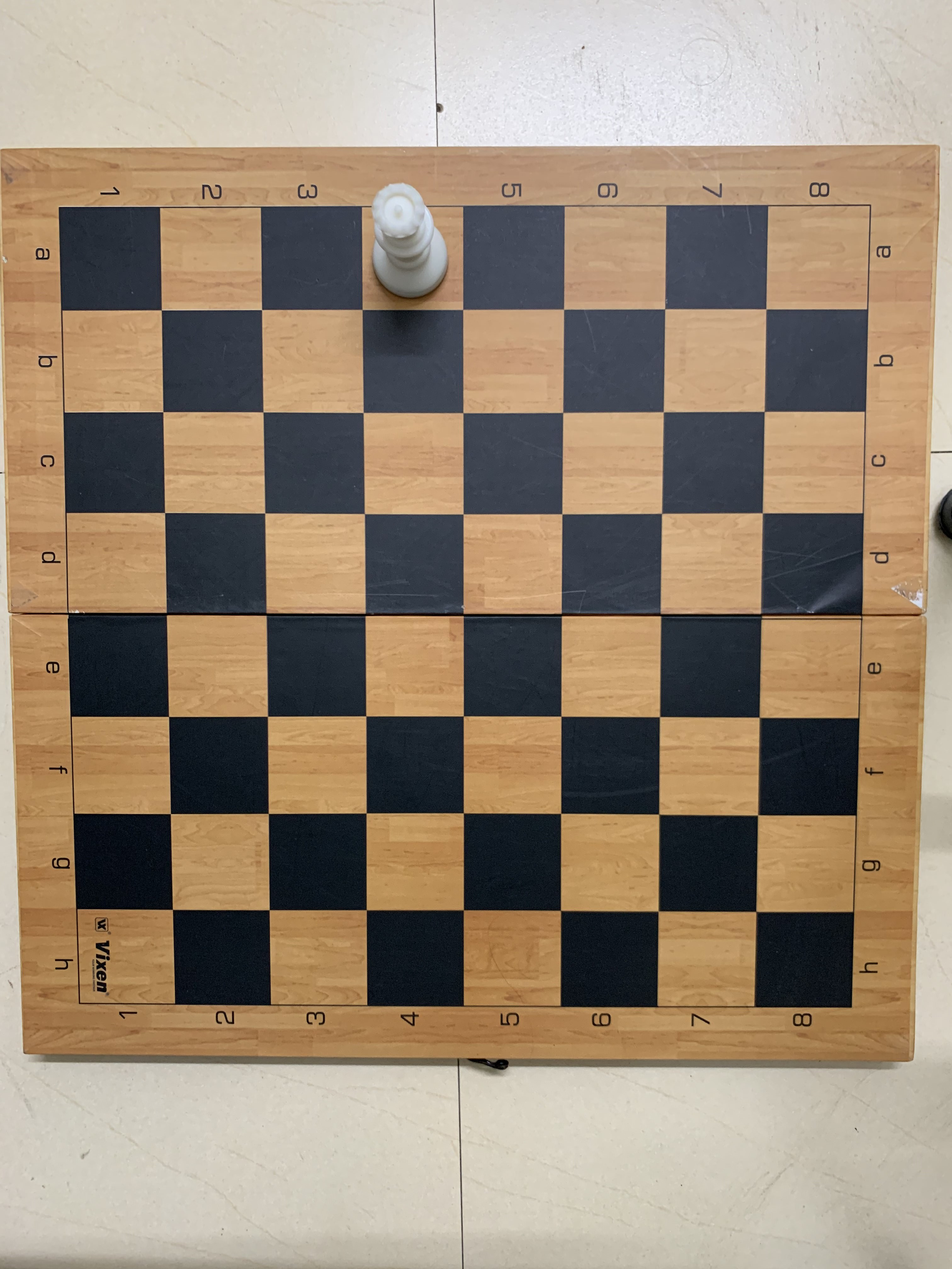white_queen: (358, 186, 463, 308)
